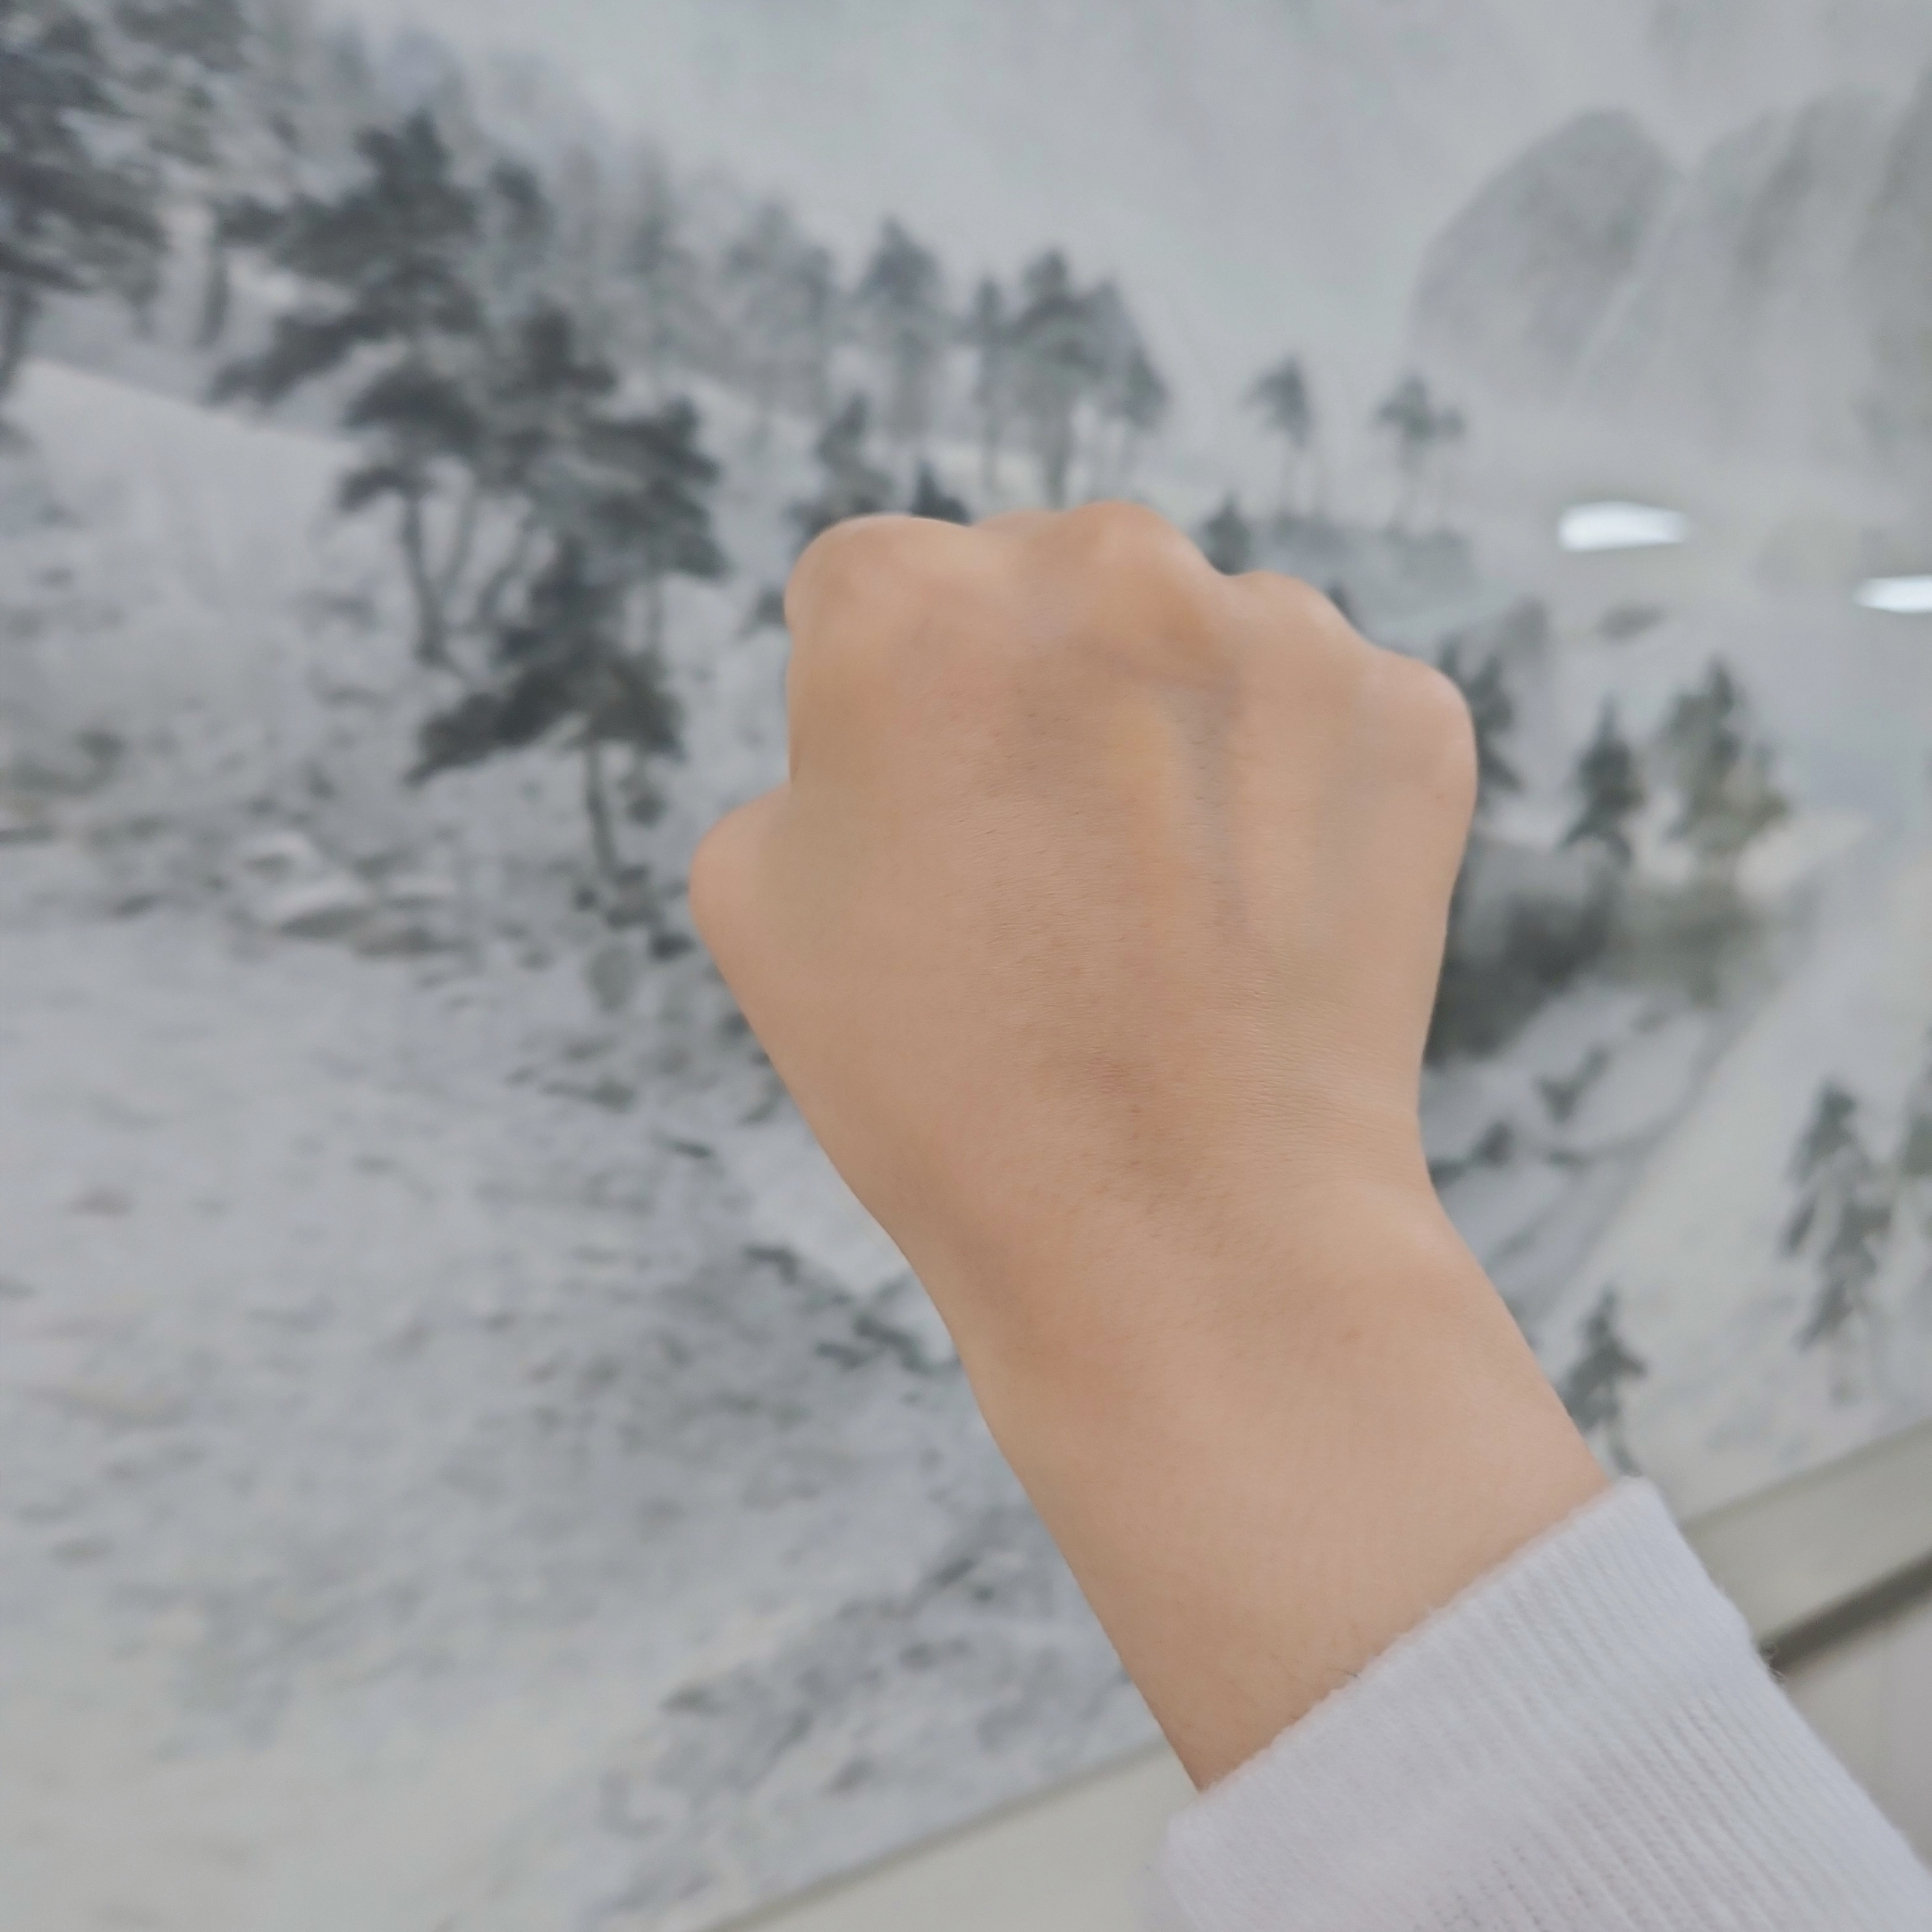smile: (678, 499, 1493, 1345)
